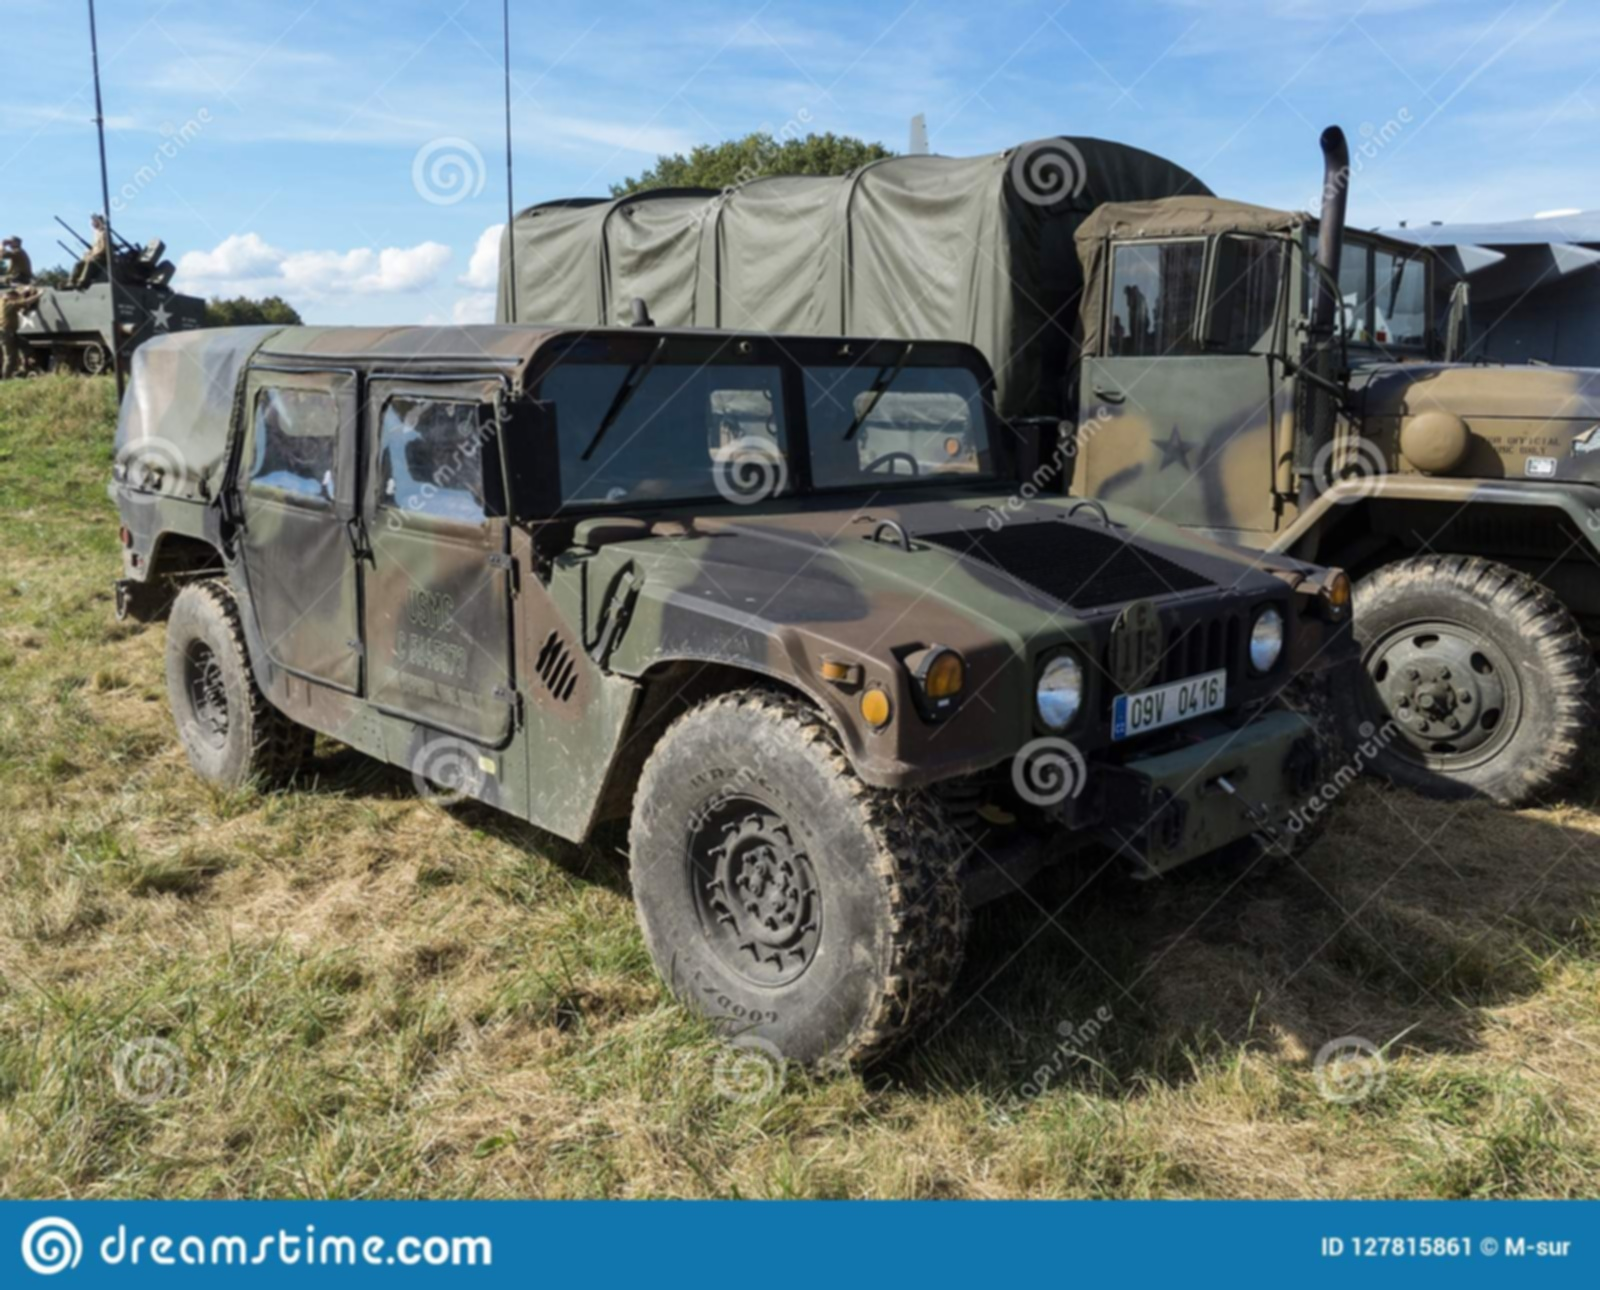license_plate: (1117, 673, 1224, 732)
